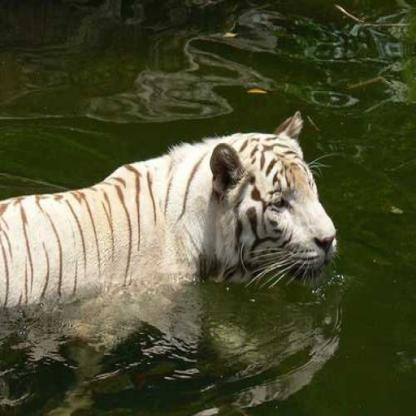Tiger: (0, 95, 364, 358)
